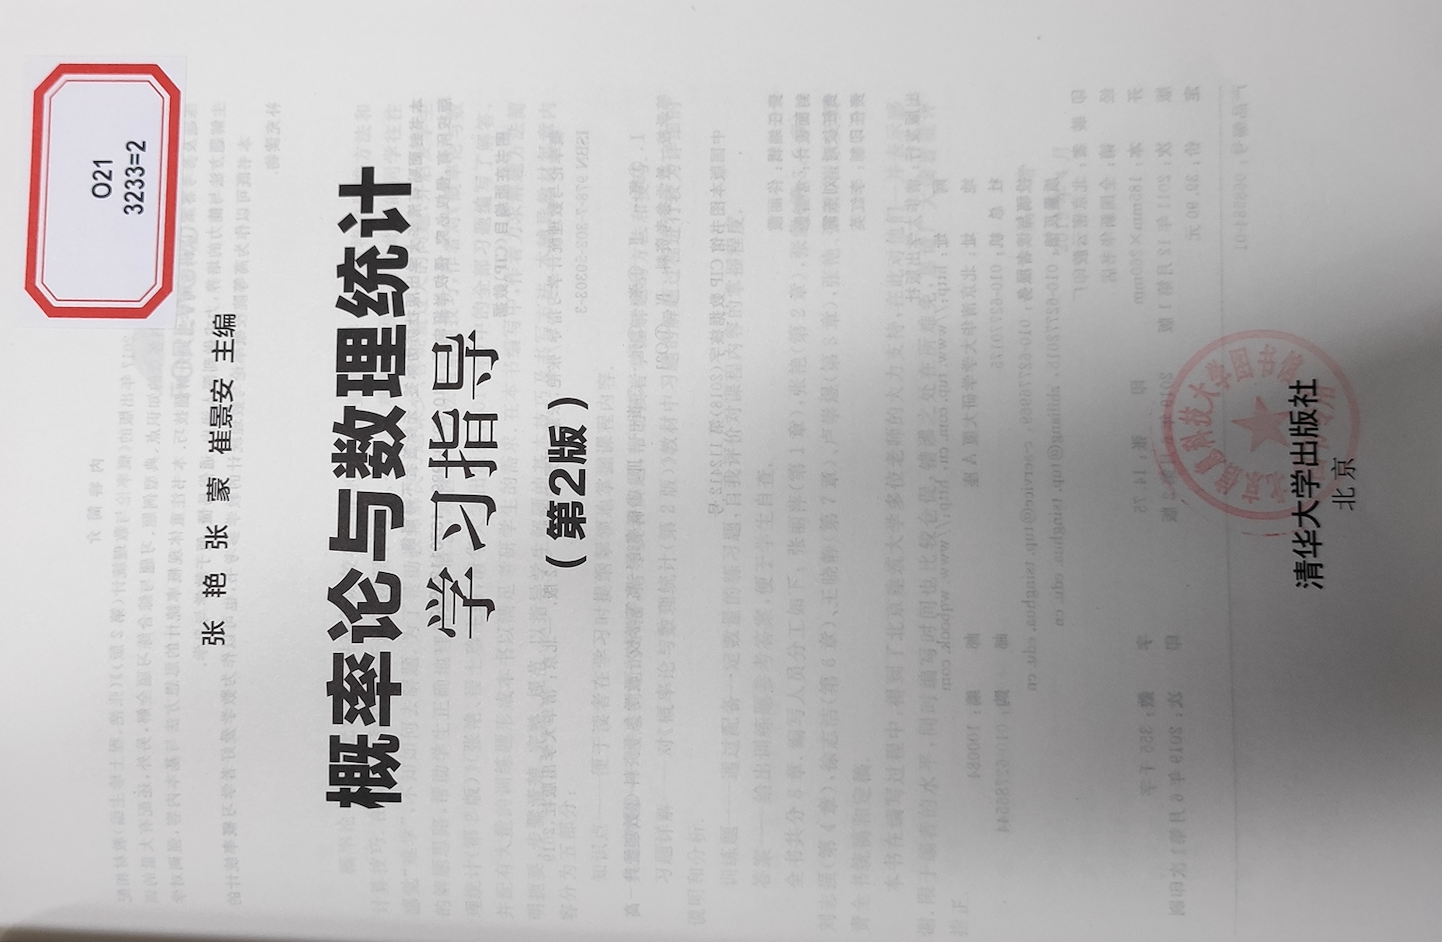Text_area: (301, 171, 601, 820), (1162, 320, 1382, 610), (33, 58, 188, 337), (165, 282, 257, 671)
